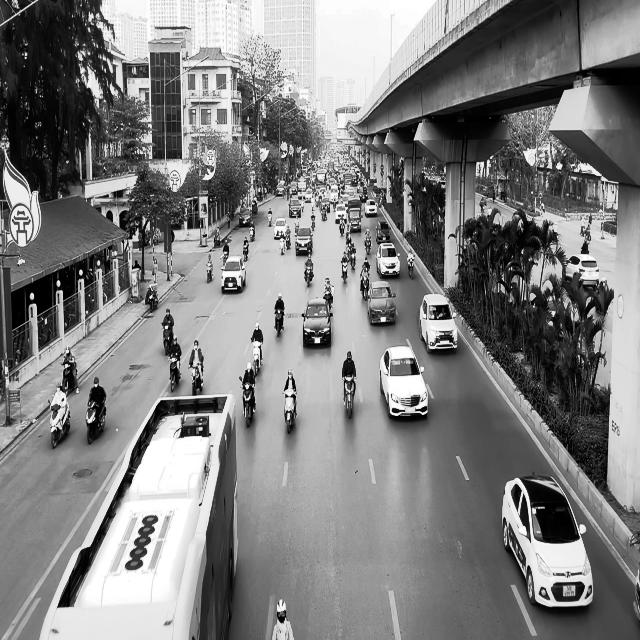bus: (39, 393, 240, 639)
car: (502, 473, 594, 609), (379, 344, 428, 419), (419, 293, 458, 354), (301, 298, 332, 348), (367, 280, 396, 326), (563, 254, 599, 290), (221, 255, 246, 293), (376, 242, 401, 278), (295, 226, 313, 255), (376, 220, 392, 243), (273, 217, 288, 239), (239, 208, 252, 226)
motorbike: (47, 398, 70, 448), (85, 397, 106, 444), (239, 376, 256, 427), (283, 389, 297, 434), (342, 375, 356, 418), (167, 353, 181, 392), (62, 362, 78, 394), (189, 361, 203, 395), (250, 340, 262, 376), (162, 324, 172, 355), (147, 284, 158, 312), (274, 309, 284, 337), (324, 287, 334, 314), (304, 262, 313, 286), (406, 254, 414, 279), (206, 262, 213, 284)
